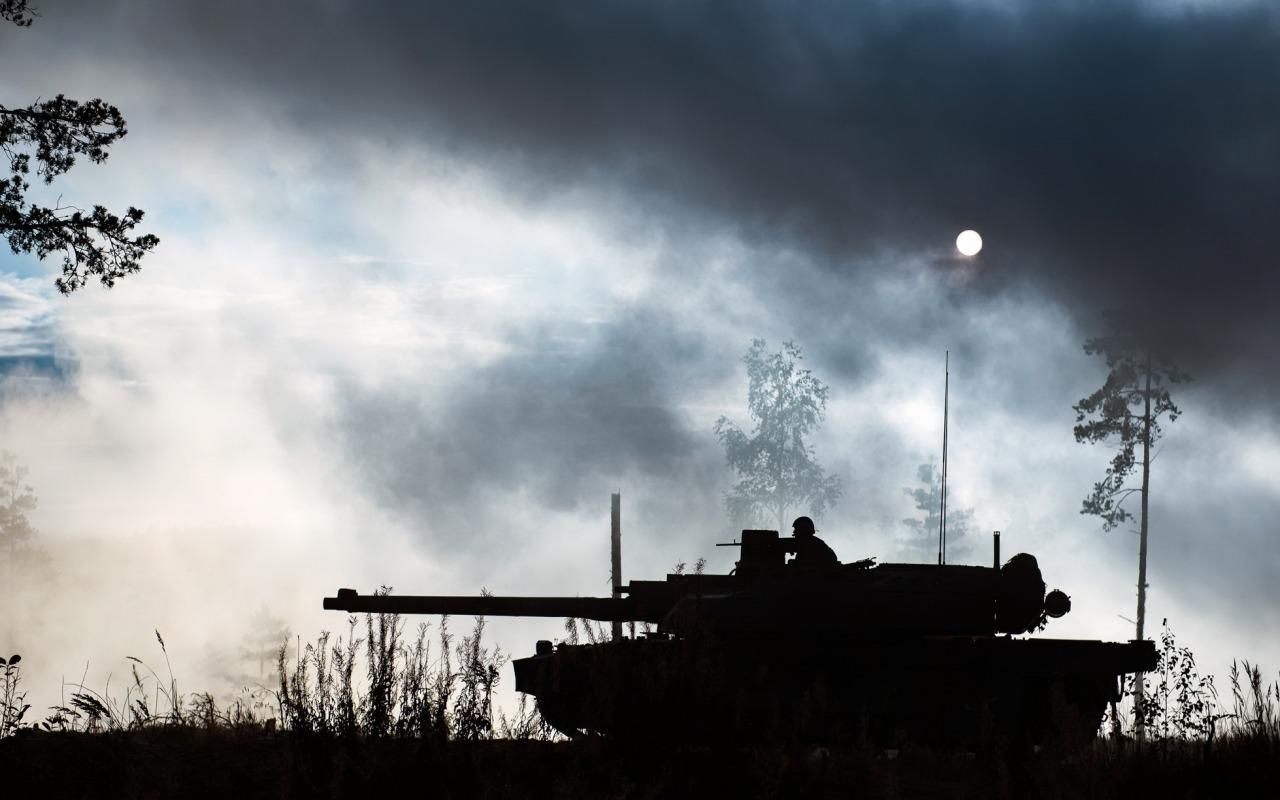tank: (320, 524, 1160, 748)
